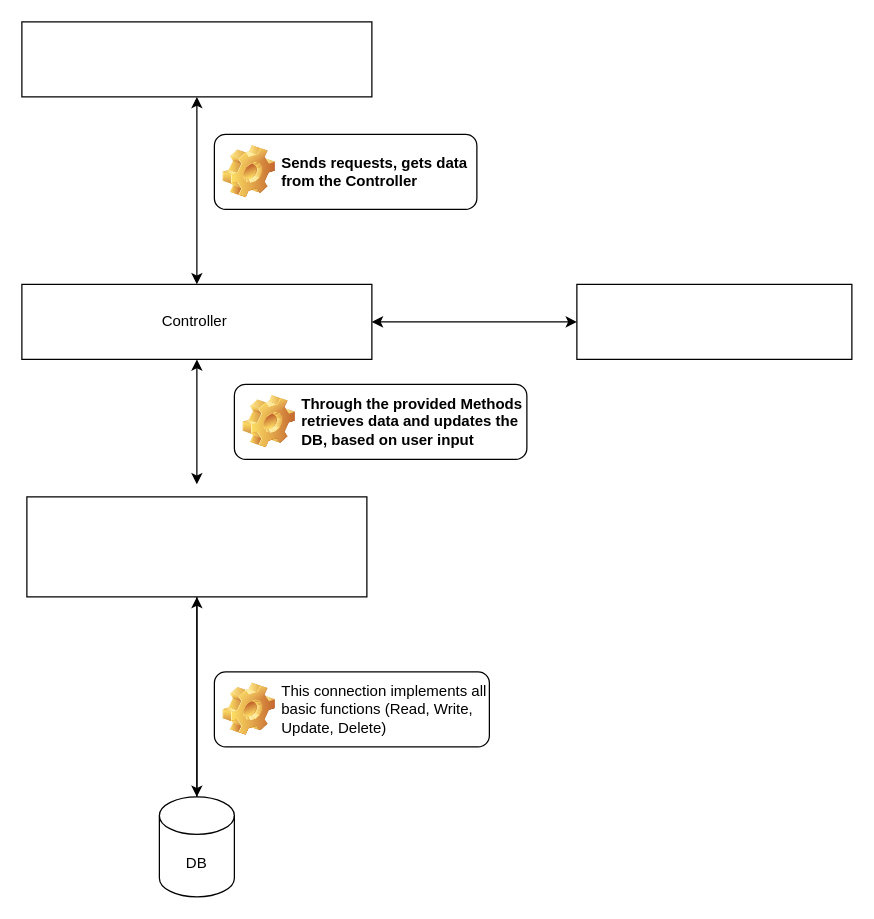
This 874x919 diagram has some shape labels left out. The centre of each missing label's shape, as x and y in pixels:
"Modell: implements all Objects and data structures" belongs at point (714, 321).
"Repository: abstracted db access layer" belongs at point (196, 546).
"View (FrontEnd)" belongs at point (196, 59).
